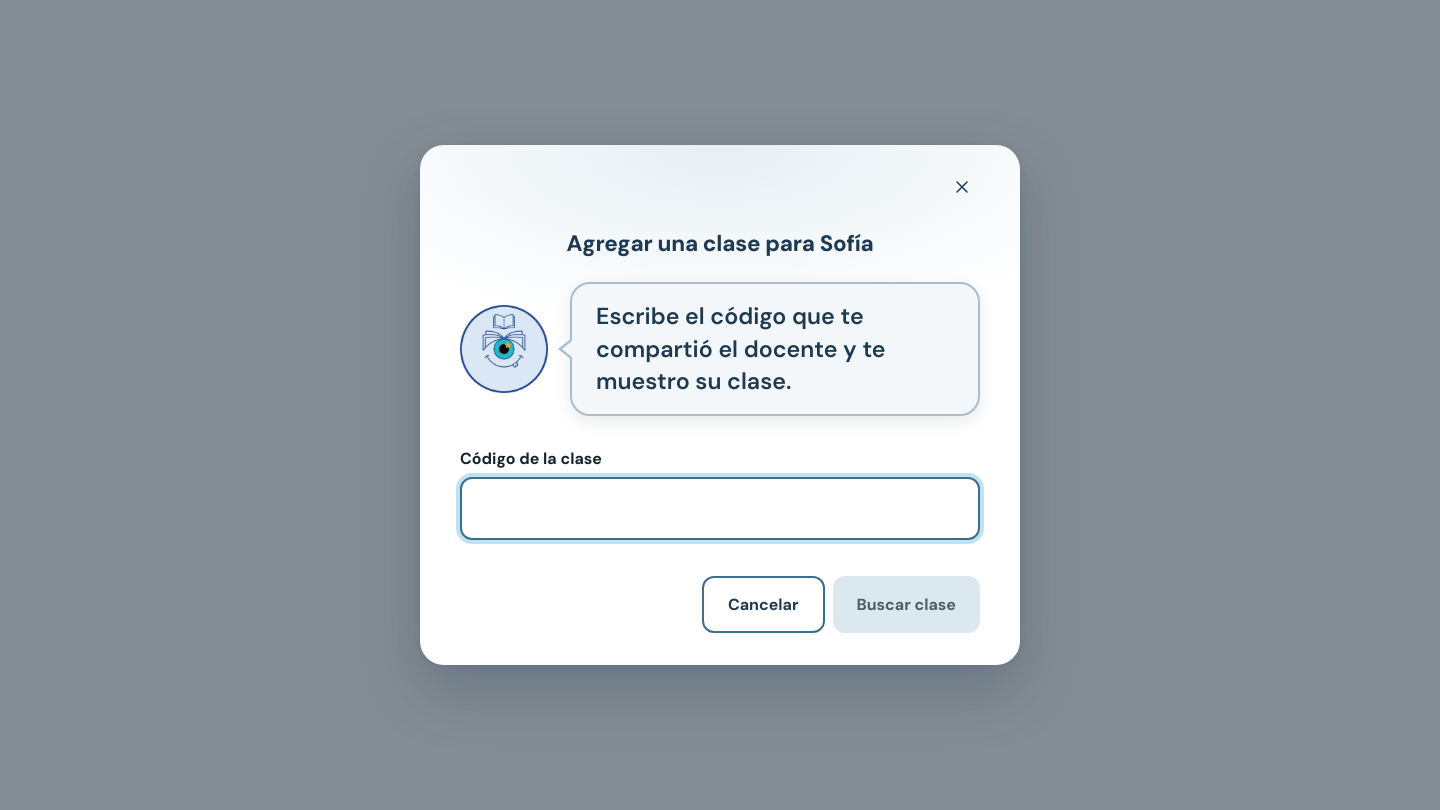
Test: AddClassDialog › keeps 'Buscar' off until the code has 8 characters with letters, numbers and symbols
This screenshot has width=1440, height=810.
Expected: the dialog "Agregar una clase para Sofía" is shown, [420,145,1020,665]
In the field labelled "Código de la clase": coordinates (720, 508) [460,477,980,540], type "abcd2345"
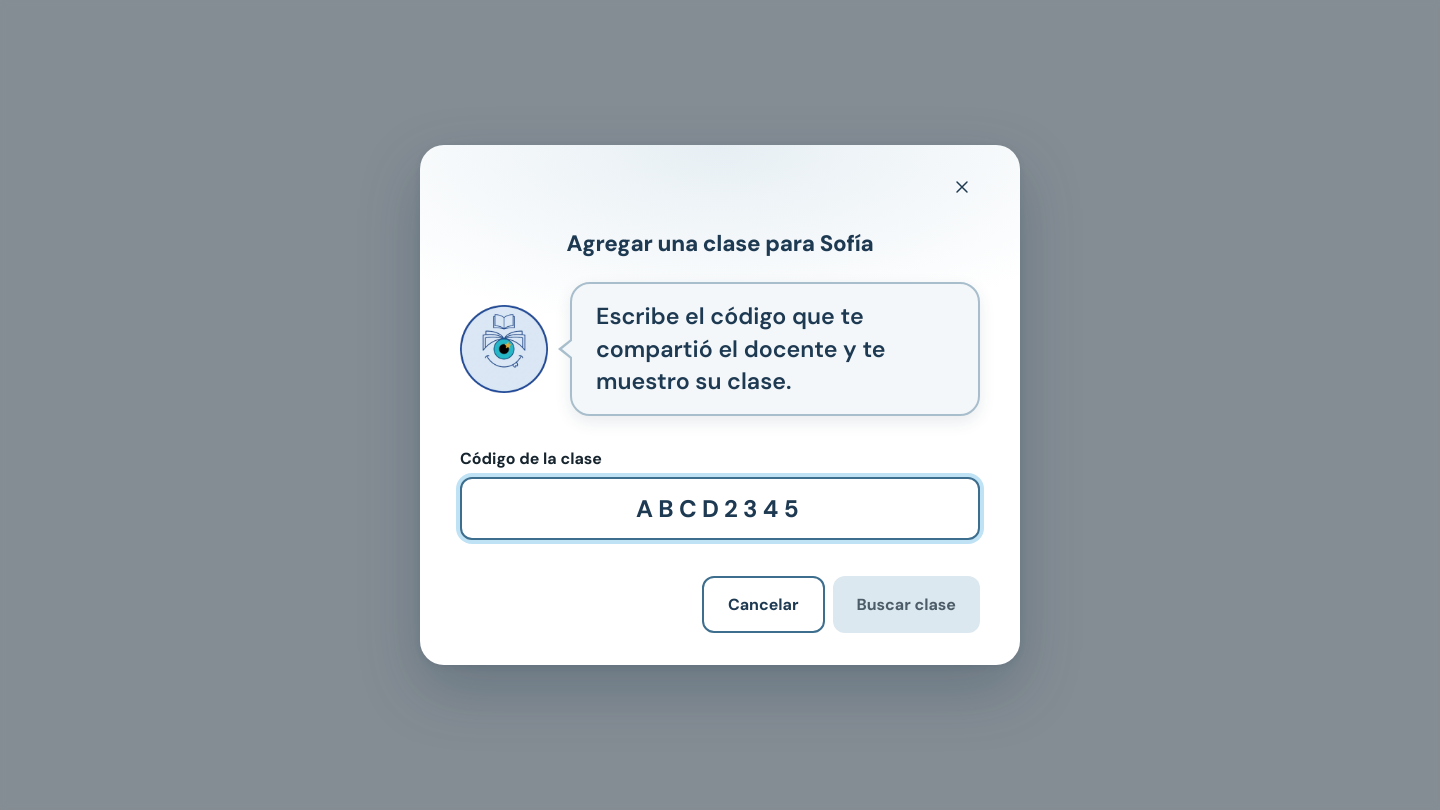
Expected: the button "Buscar clase" is disabled, [832,576,980,633]
Replace the text in the field labelled "Código de la clase" with "k7#mp2$x": coordinates (720, 508) [460,477,980,540]
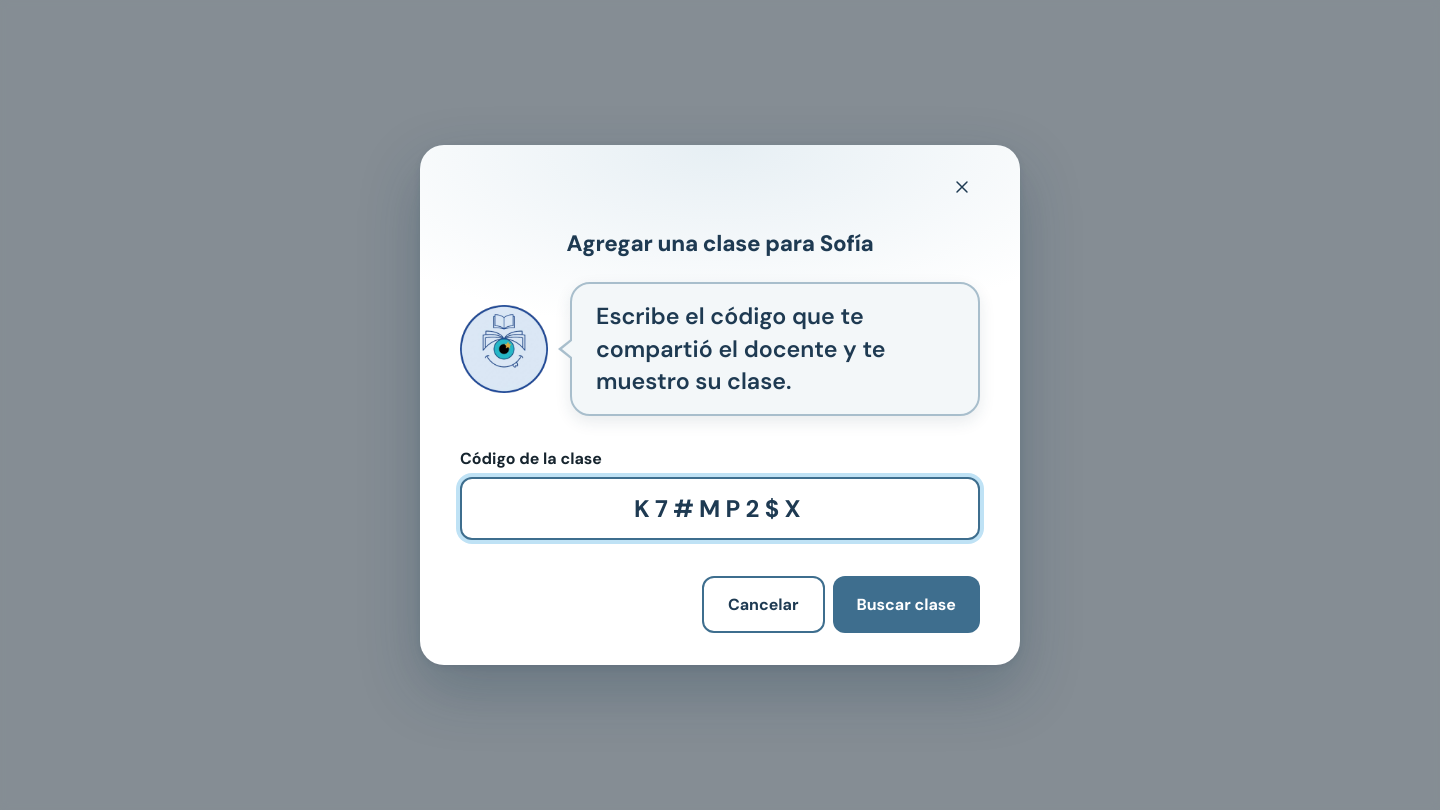
Expected: the button "Buscar clase" is enabled, [832,576,980,633]
